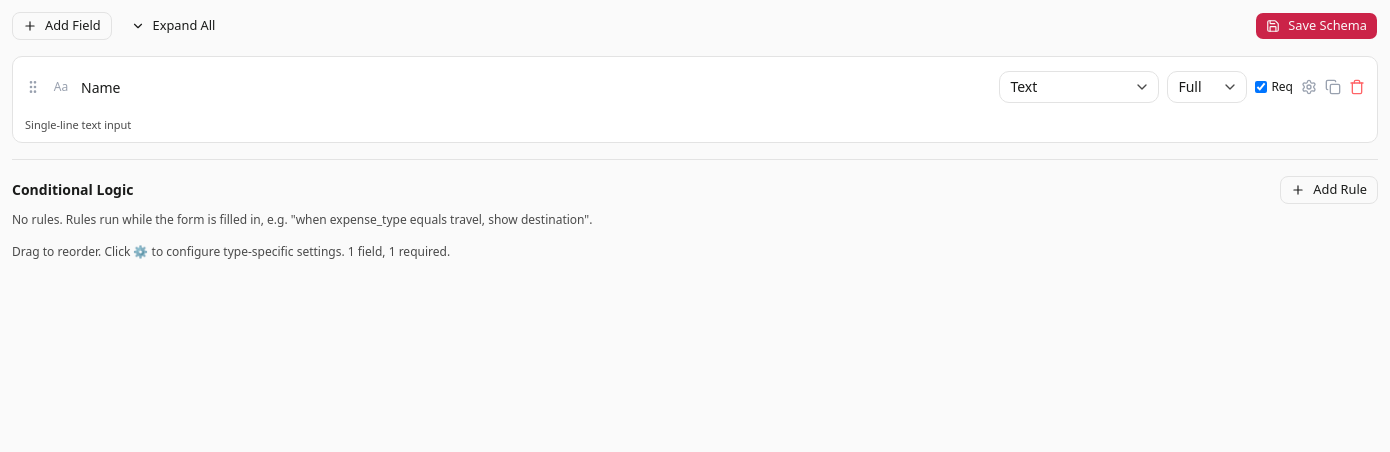
FormBuilder Expand All / Collapse All (#71 UX) › Expand All opens every field's config panel; Collapse All closes them
The image size is (1390, 452).
Expected: the text "Field name (slug)" is not shown
Step 1. Click the button "Expand All" → x=173, y=26, box [120,12,226,40]
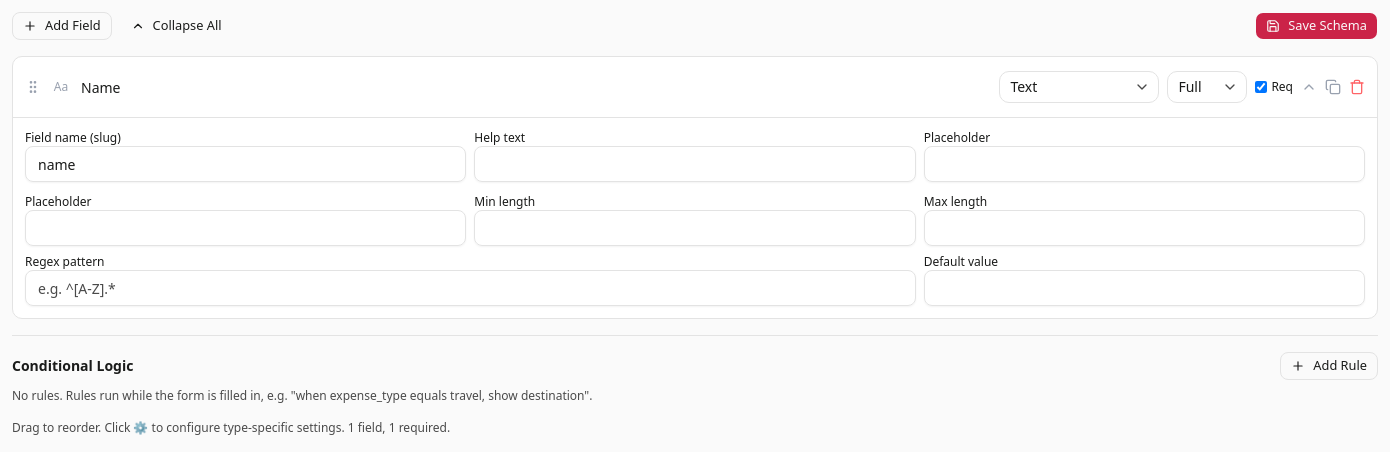
Expected: the text "Field name (slug)" is shown, [25,129,121,146]
Step 2. Click the button "Collapse All" → x=176, y=26, box [120,12,232,40]
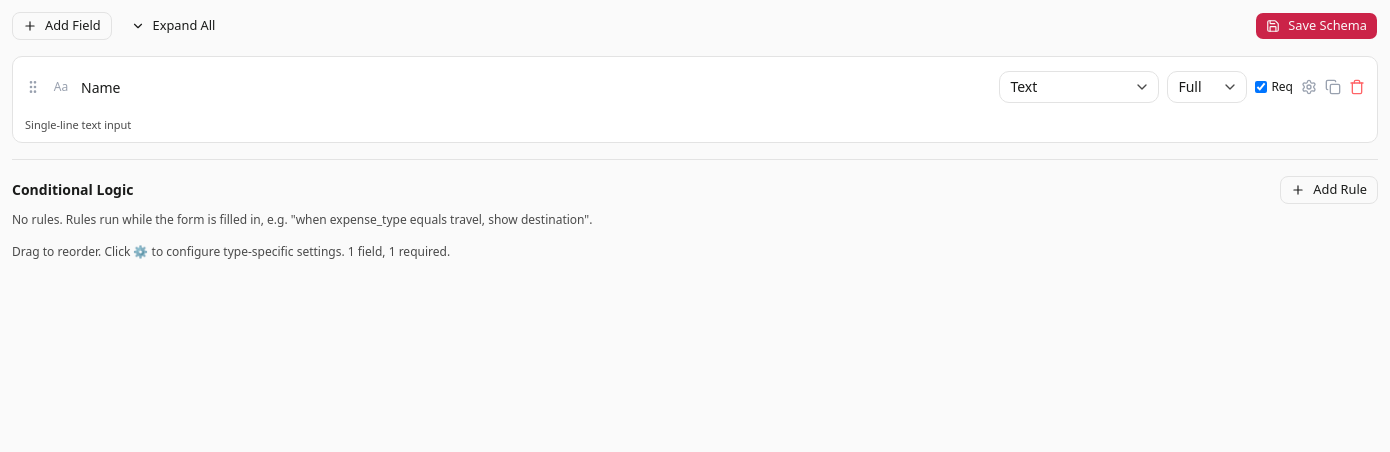
Expected: the text "Field name (slug)" is gone
